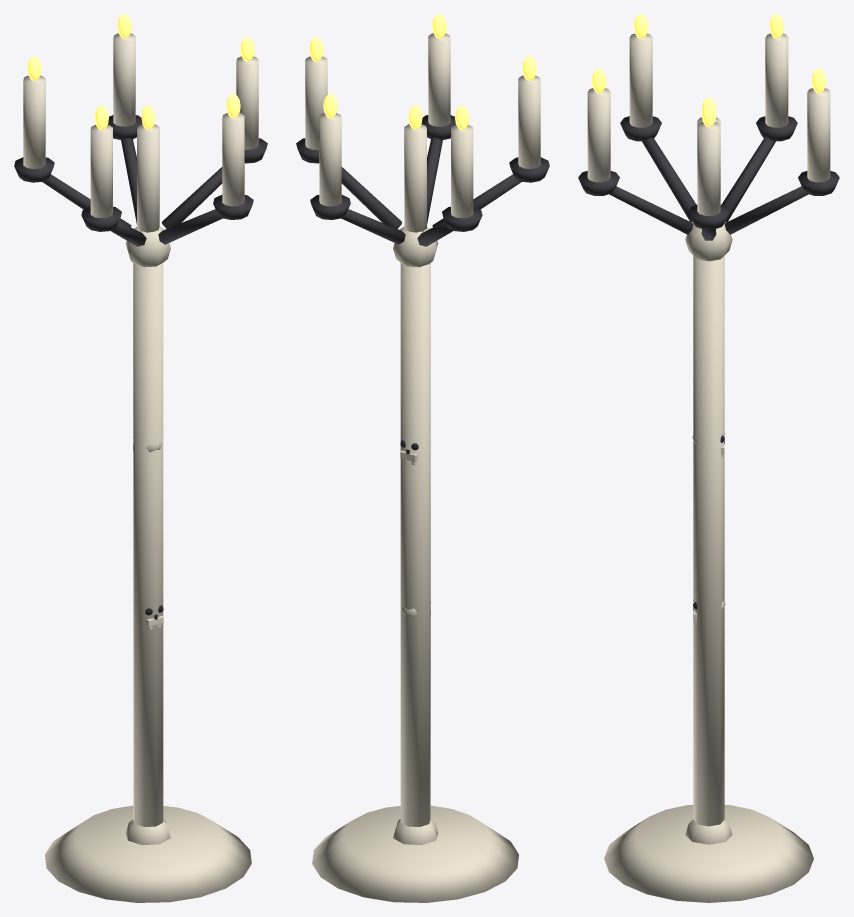
The model's file is candelabra_bone_tall.glb.
3 renders of one model, left to right at view 1: azimuth 30°, elevation 25°; view 2: azimuth 150°, elevation 25°; view 3: azimuth 270°, elevation 25°, orthographic.
Visible parts, largest first — view 1: GD_candelabra_bone_tall__m0, GD_candelabra_bone_tall__m4, GD_candelabra_bone_tall__m3, GD_candelabra_bone_tall__m5; view 2: GD_candelabra_bone_tall__m0, GD_candelabra_bone_tall__m4, GD_candelabra_bone_tall__m3, GD_candelabra_bone_tall__m5; view 3: GD_candelabra_bone_tall__m0, GD_candelabra_bone_tall__m4, GD_candelabra_bone_tall__m3, GD_candelabra_bone_tall__m5.
Part boxes in pixels (x1=…): GD_candelabra_bone_tall__m0: x1=45, y1=226, x2=251, y2=902; GD_candelabra_bone_tall__m4: x1=23, y1=33, x2=258, y2=232; GD_candelabra_bone_tall__m3: x1=14, y1=115, x2=267, y2=246; GD_candelabra_bone_tall__m5: x1=27, y1=14, x2=254, y2=129; GD_candelabra_bone_tall__m0: x1=312, y1=226, x2=518, y2=902; GD_candelabra_bone_tall__m4: x1=305, y1=33, x2=540, y2=232; GD_candelabra_bone_tall__m3: x1=296, y1=115, x2=549, y2=246; GD_candelabra_bone_tall__m5: x1=309, y1=14, x2=536, y2=129; GD_candelabra_bone_tall__m0: x1=604, y1=224, x2=813, y2=902; GD_candelabra_bone_tall__m4: x1=587, y1=33, x2=830, y2=215; GD_candelabra_bone_tall__m3: x1=578, y1=116, x2=839, y2=240; GD_candelabra_bone_tall__m5: x1=591, y1=14, x2=826, y2=126.
Size of the model in its own units: 0.4741 by 1.69 by 0.4985.
